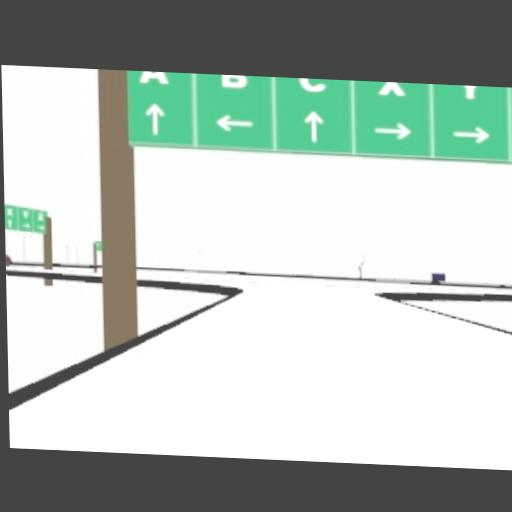A: (137, 71, 170, 83)
B: (220, 74, 249, 87)
C: (298, 77, 325, 91)
Left: (213, 111, 254, 131)
Right: (373, 118, 412, 138), (452, 124, 489, 144)
Straight: (145, 101, 164, 133), (304, 110, 323, 140)
X: (377, 80, 406, 94)
Y: (462, 84, 477, 98)
